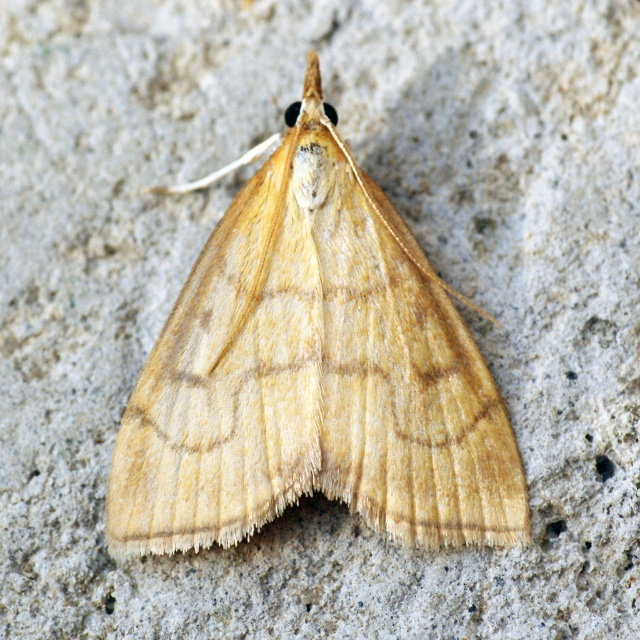Butterfly: (103, 52, 528, 562)
